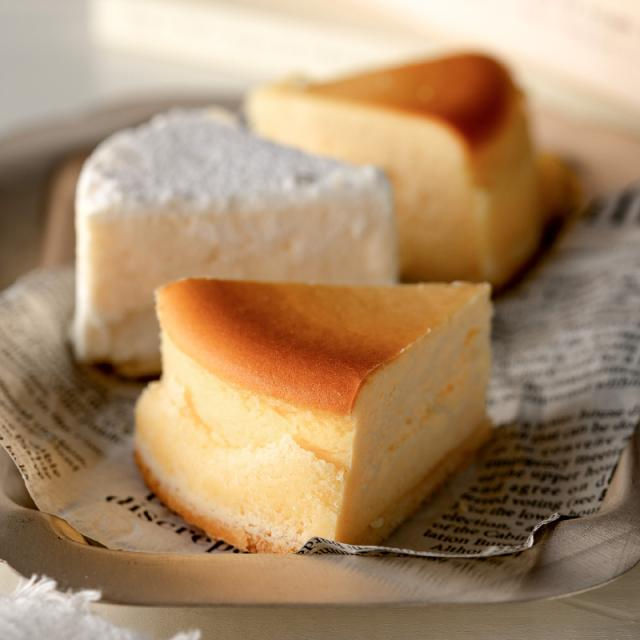cheesecake: (132, 274, 495, 552)
